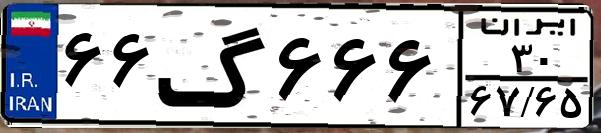0: (537, 27, 568, 80)
3: (508, 27, 537, 80)
5: (560, 70, 590, 125)
6: (270, 28, 330, 110), (385, 28, 445, 110), (330, 28, 385, 110), (57, 26, 110, 100), (110, 28, 156, 98), (470, 70, 495, 125), (535, 70, 560, 125)
7: (495, 70, 520, 125)
گ: (156, 12, 270, 120)
